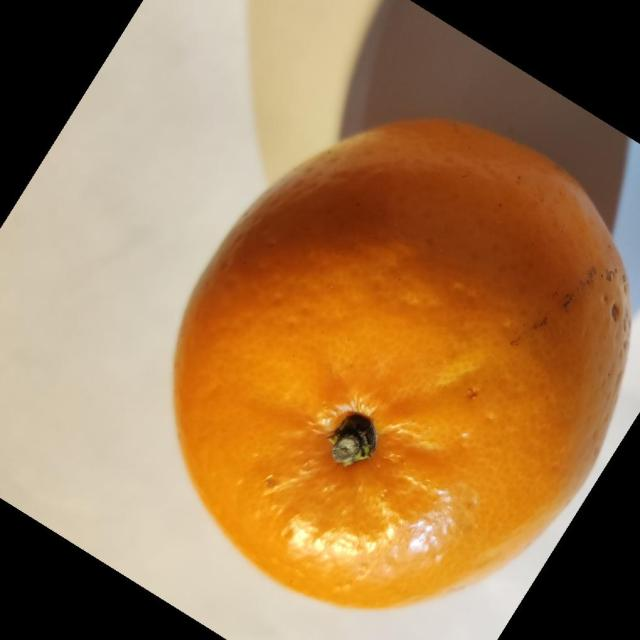fresh orange: (171, 116, 631, 610)
